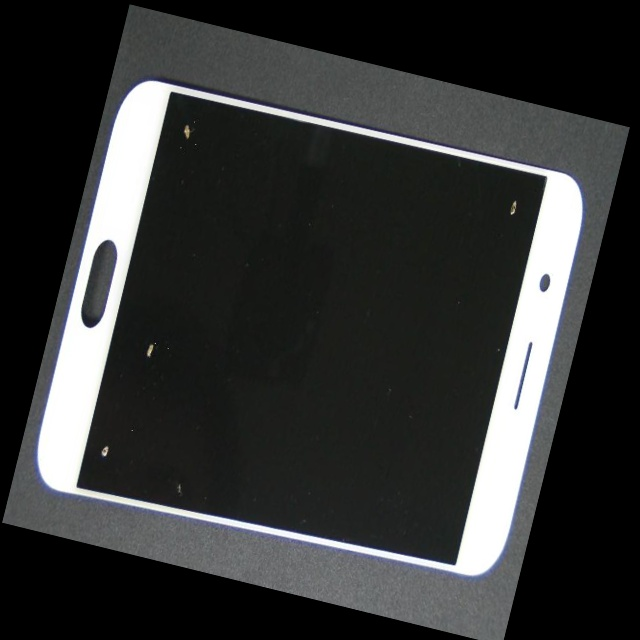stain: (284, 80, 623, 295), (35, 187, 228, 557), (35, 234, 179, 548), (129, 44, 233, 183)
